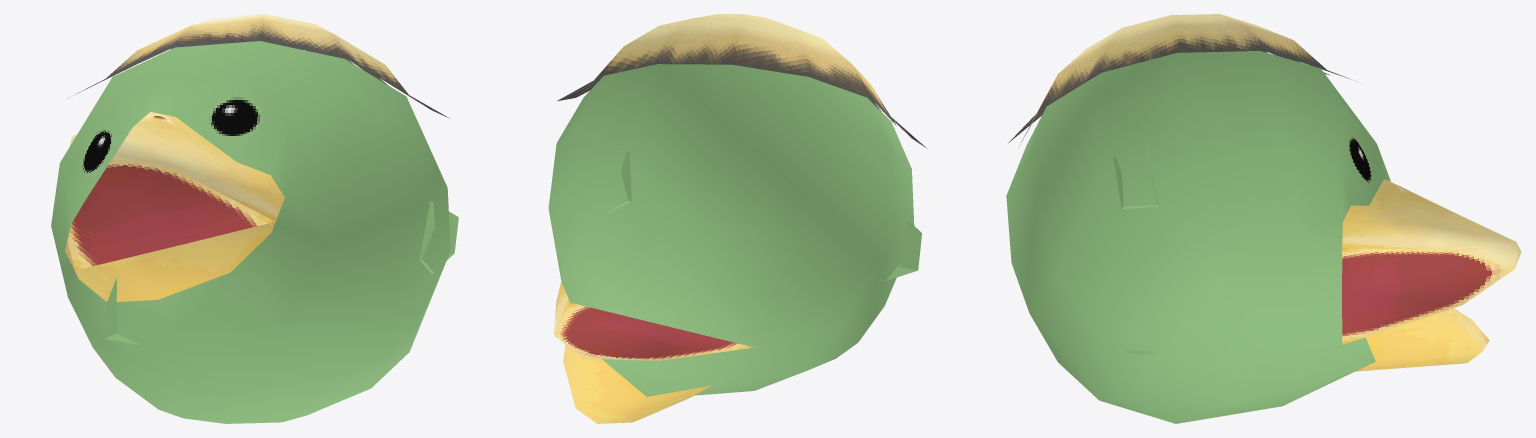
Rendered from ps2_save-icons_kappanokaikata.glb.
3 views of the same model, side by side, from view 1: azimuth 30°, elevation 25°; view 2: azimuth 150°, elevation 25°; view 3: azimuth 270°, elevation 25° (orthographic). The views are drawn at different scales.
Visible parts, largest first — view 1: static.ico; view 2: static.ico; view 3: static.ico.
Boxes of the visible parts, x1=… form: static.ico: x1=51, y1=14, x2=458, y2=423; static.ico: x1=548, y1=14, x2=927, y2=423; static.ico: x1=1006, y1=14, x2=1521, y2=423.
Size of the model in its own units: 3.21 by 2.81 by 3.77.
Materials: 1 (1 with a texture image).
